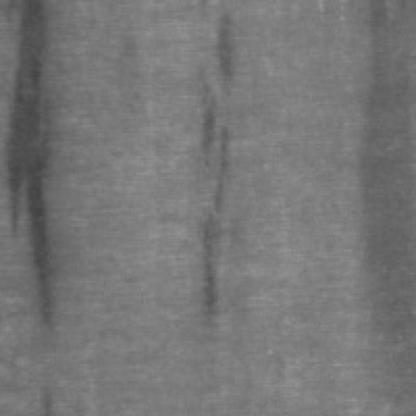inclusion: (4, 2, 69, 339), (354, 10, 416, 343), (193, 58, 244, 337), (218, 6, 246, 94)
